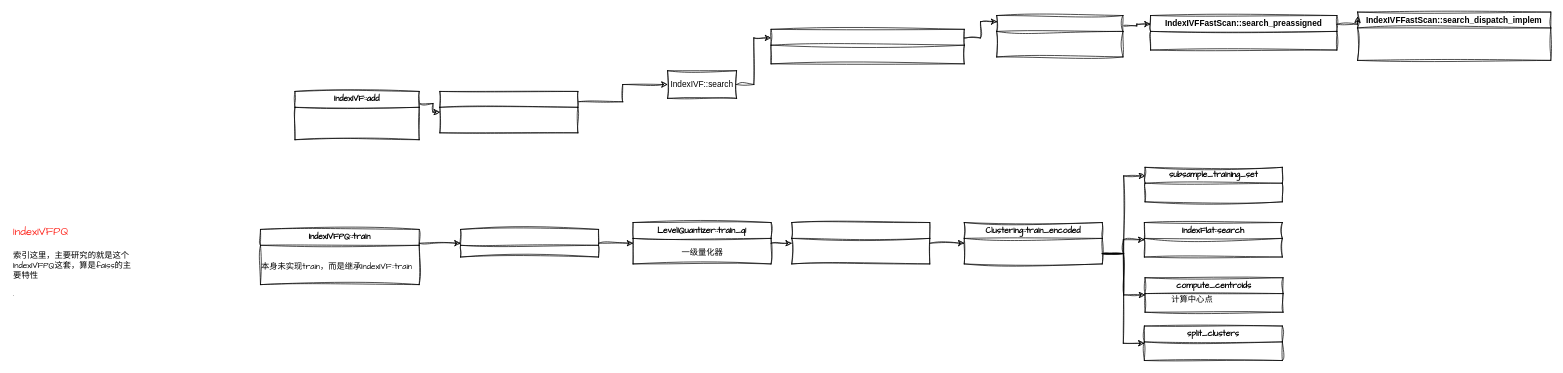
This 1563x373 diagram has some shape labels left out. Each missing label, with the centre of its shape:
Clustering::train: point (860, 243)
IndexIVF::add_with_ids: point (508, 112)
IndexIVF::train: point (529, 243)
IndexIVFAdditiveQuantizerFastScan::search: point (867, 46)
IndexIVFFastScan::search: point (1059, 36)
